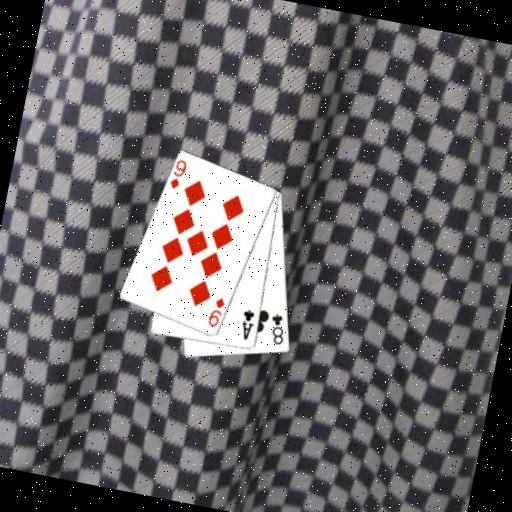8C: (264, 310, 291, 348)
9D: (204, 293, 228, 331), (167, 155, 190, 193)
AC: (237, 306, 259, 342)
